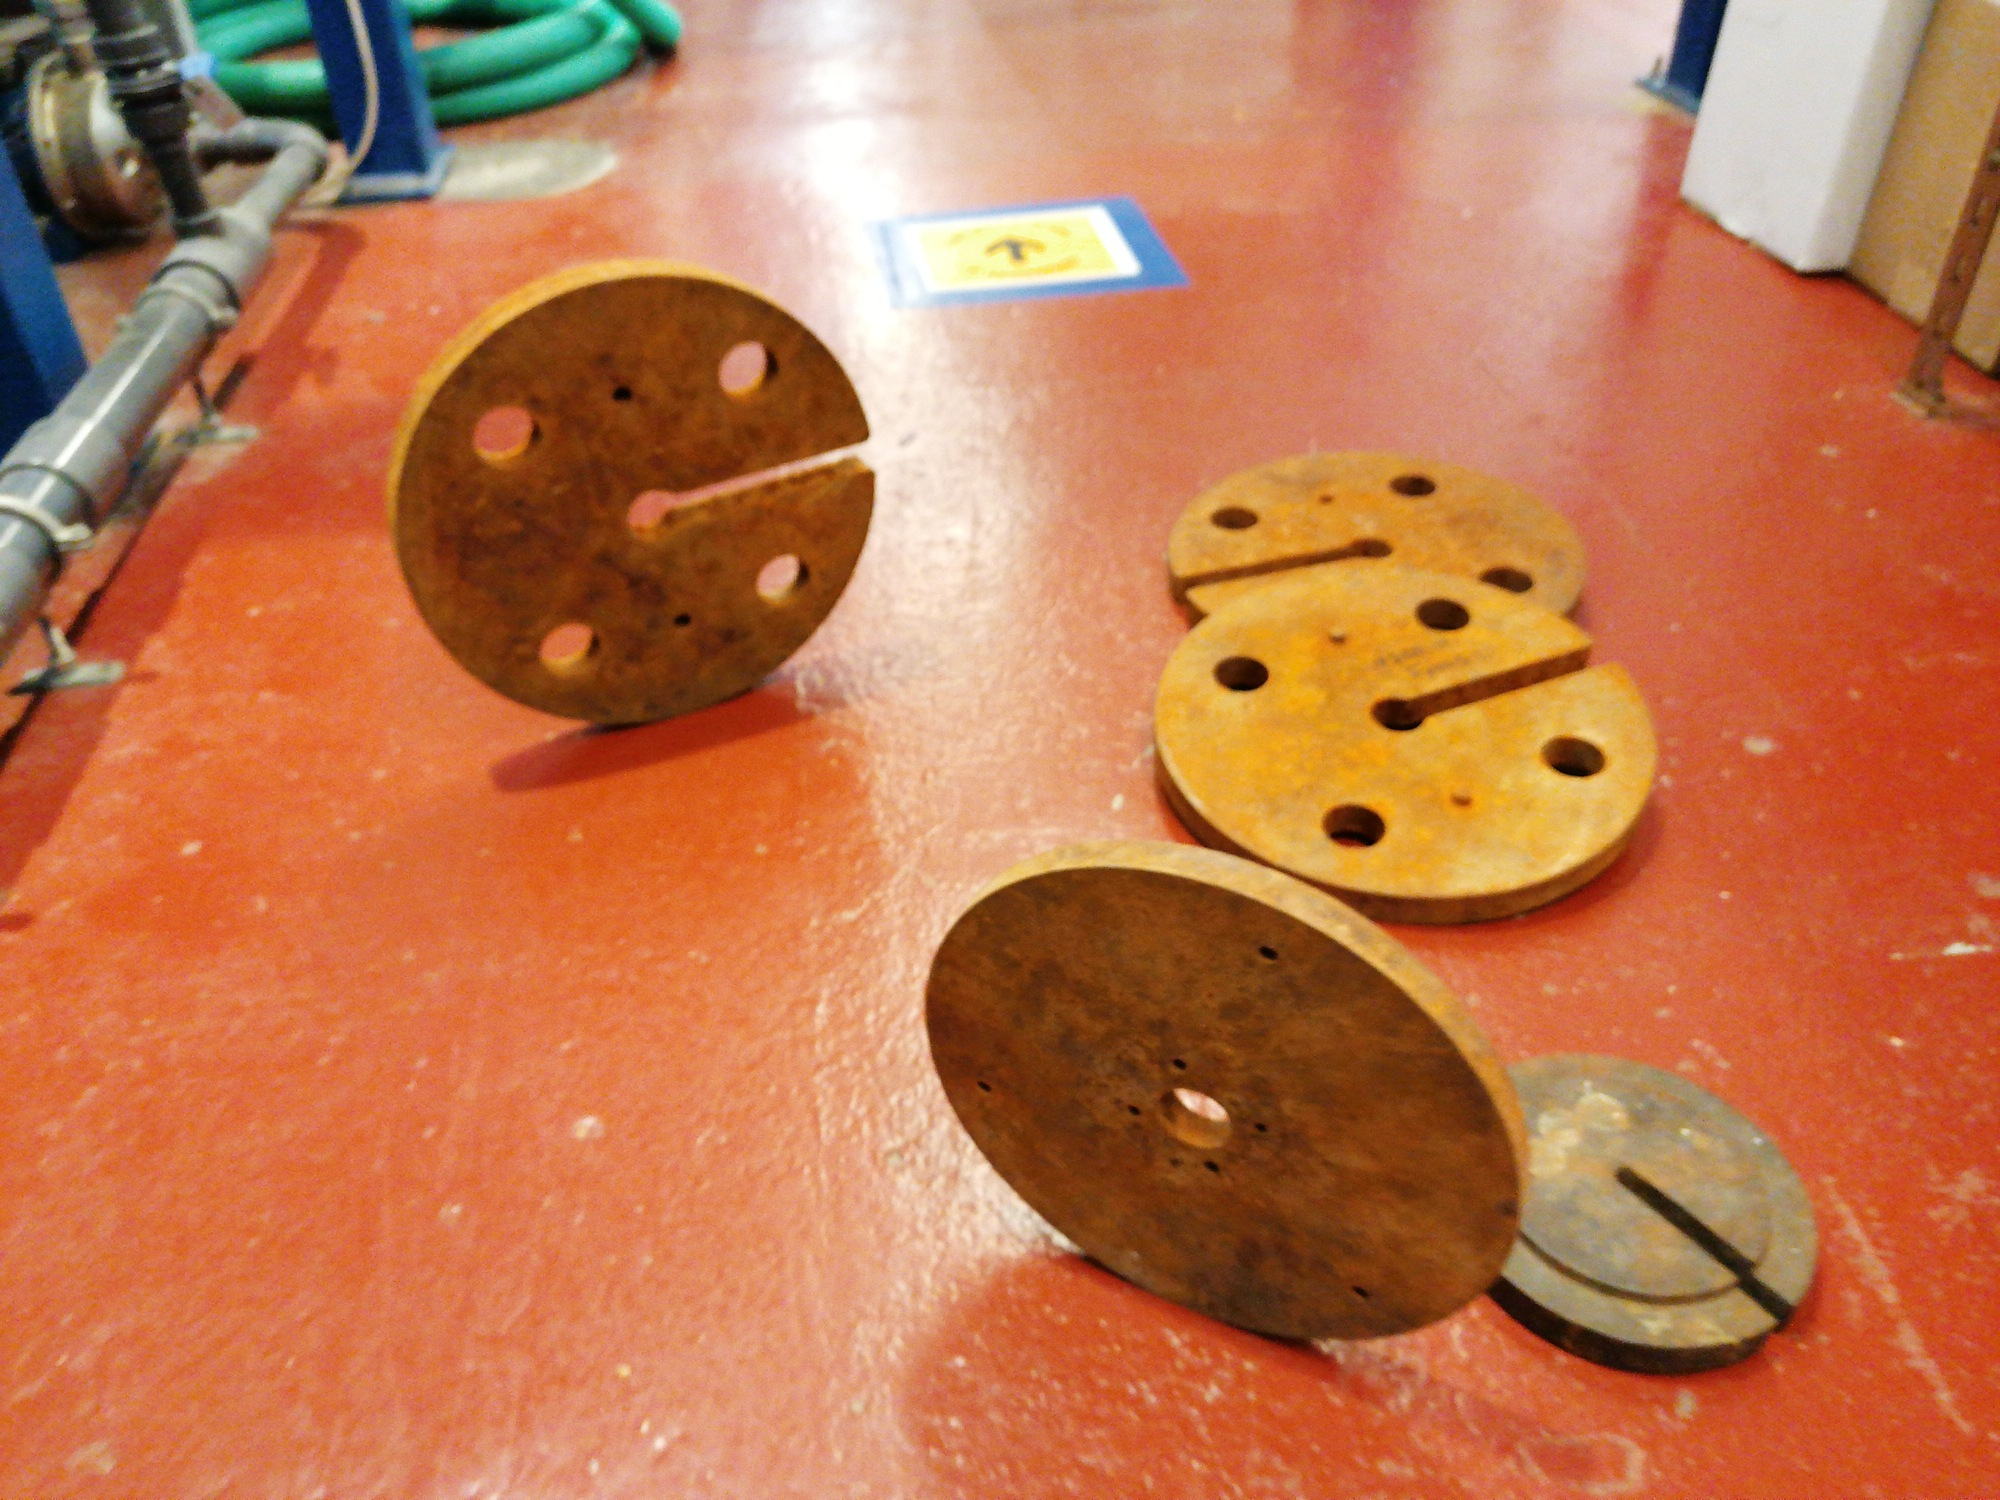flange: (923, 838, 1529, 1344), (386, 257, 876, 730), (1150, 555, 1657, 926), (1455, 1053, 1824, 1376), (1162, 447, 1587, 640)
